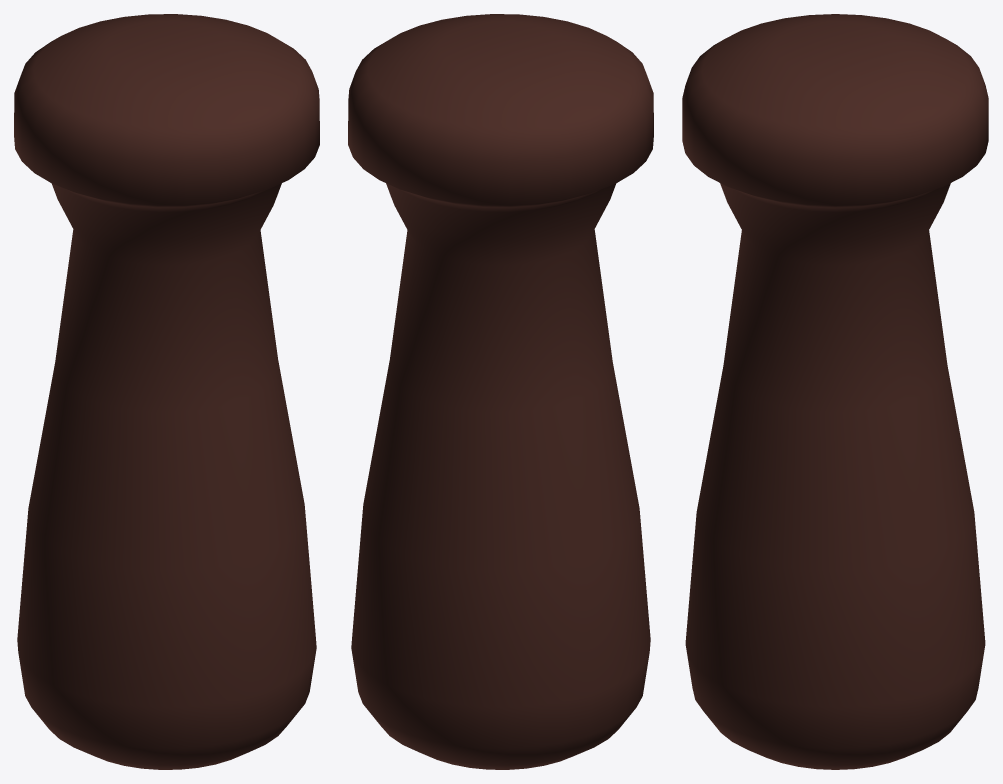
The model's file is morzer.fbx.
3 renders of one model, left to right at view 1: azimuth 30°, elevation 25°; view 2: azimuth 150°, elevation 25°; view 3: azimuth 270°, elevation 25°, orthographic.
Visible parts, largest first — view 1: Cylinder; view 2: Cylinder; view 3: Cylinder.
Boxes of the visible parts, x1,y1,x2,y2 form: Cylinder: (14,14,319,769); Cylinder: (348,14,653,769); Cylinder: (682,14,988,769).
Bounding box in the file's own units: 70.22 × 174 × 70.22.
